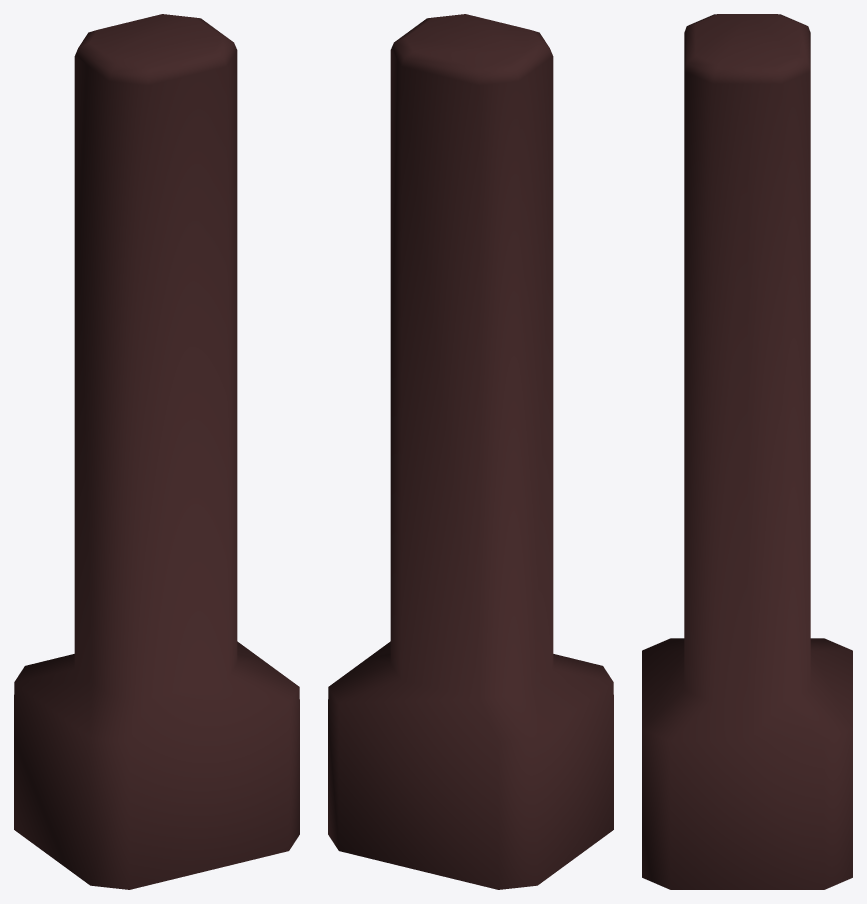
The model's file is Beam.fbx.
The picture shows the model from 3 angles, left to right: view 1: azimuth 30°, elevation 25°; view 2: azimuth 150°, elevation 25°; view 3: azimuth 270°, elevation 25°; orthographic projection.
Parts seen in each view (by area): view 1: Beam; view 2: Beam; view 3: Beam.
Boxes of the visible parts, left/top/right/bottom form: Beam: left=14, top=14, right=299, bottom=889; Beam: left=328, top=14, right=613, bottom=889; Beam: left=642, top=14, right=852, bottom=889.
Bounding box in the file's own units: 54.62 × 197 × 47.24.
